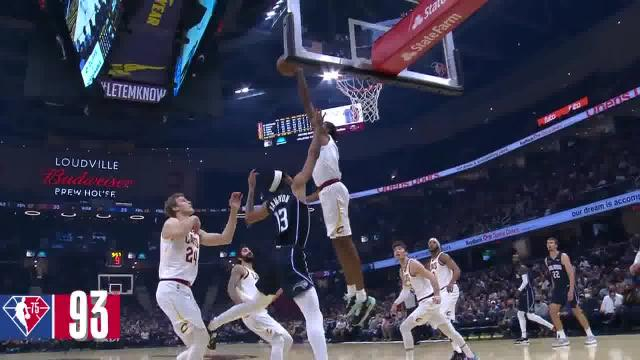ball-handler: (274, 52, 376, 323)
player: (245, 165, 328, 360), (157, 191, 216, 360), (226, 244, 292, 360), (391, 241, 445, 360), (544, 236, 598, 346), (424, 235, 462, 360), (511, 251, 547, 345)
